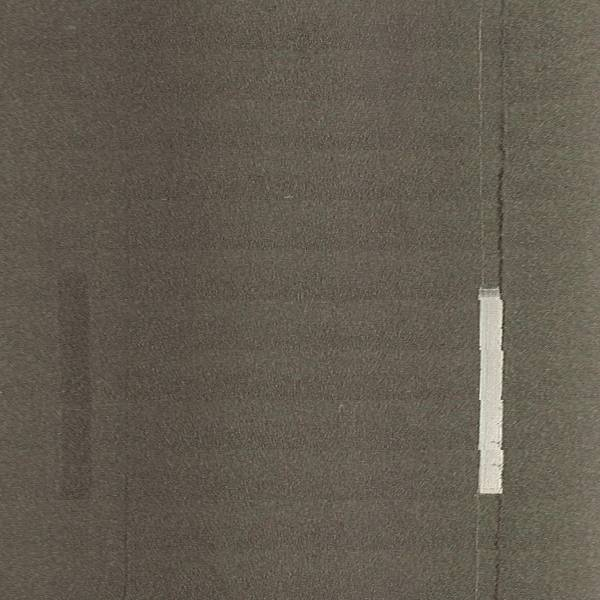road_damage: (496, 113, 509, 287)
